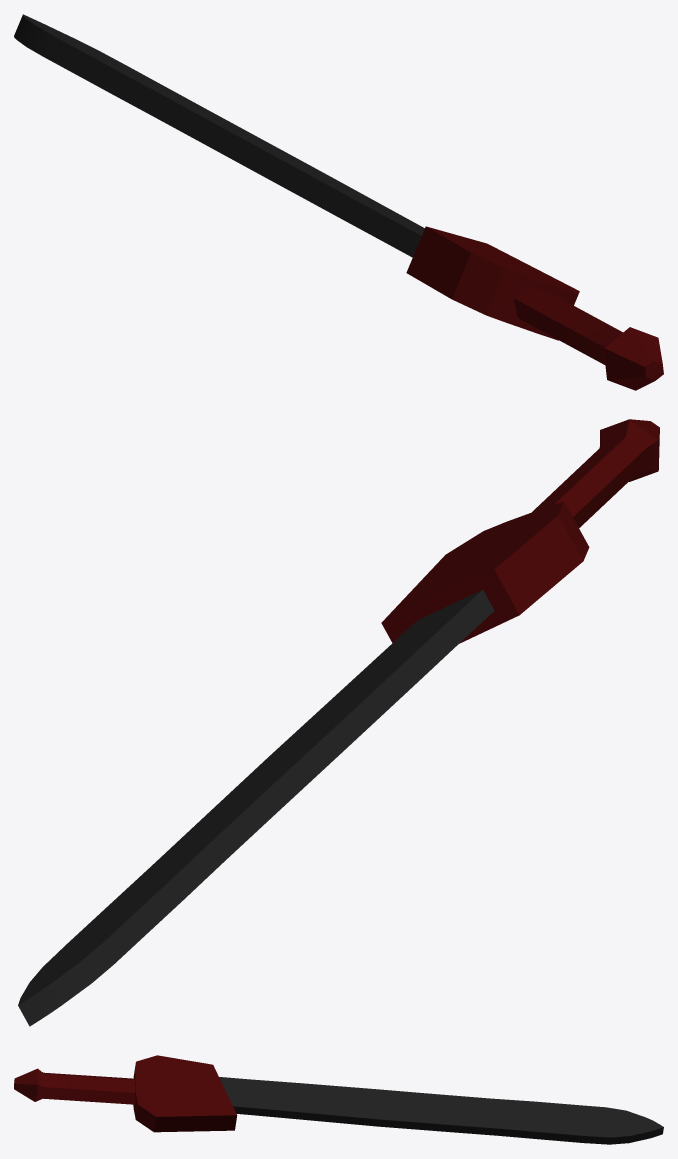
The model's file is Espada.fbx.
The picture shows the model from 3 angles, top to bottom: view 1: azimuth 30°, elevation 25°; view 2: azimuth 150°, elevation 25°; view 3: azimuth 270°, elevation 25°; orthographic projection. The views are drawn at different scales.
Parts seen in each view (by area): view 1: Espada1; view 2: Espada1; view 3: Espada1.
Boxes of the visible parts, x1=… form: Espada1: x1=14, y1=14, x2=663, y2=390; Espada1: x1=18, y1=419, x2=659, y2=1026; Espada1: x1=14, y1=1055, x2=663, y2=1144.
Size of the model in its own units: 0.4584 by 0.4933 by 3.78.
